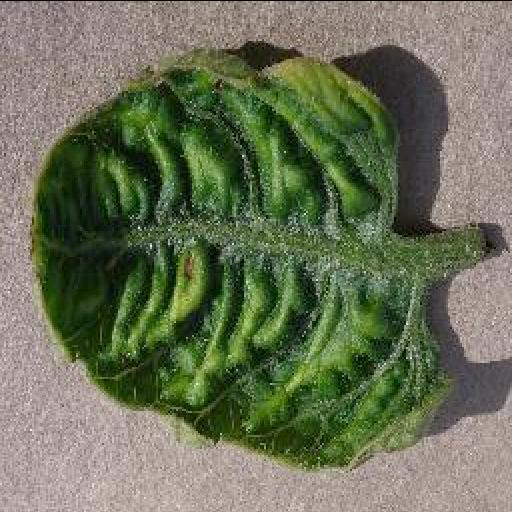disease_tomato: (24, 38, 450, 472)
